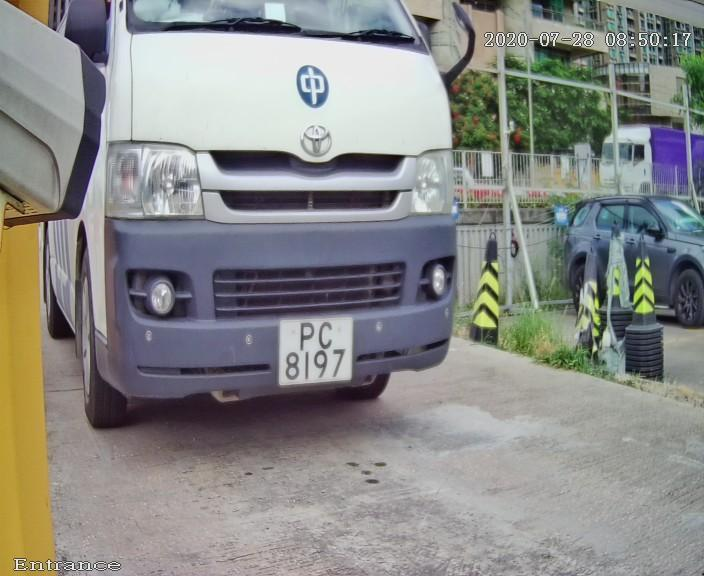privatecar: (19, 6, 525, 461)
